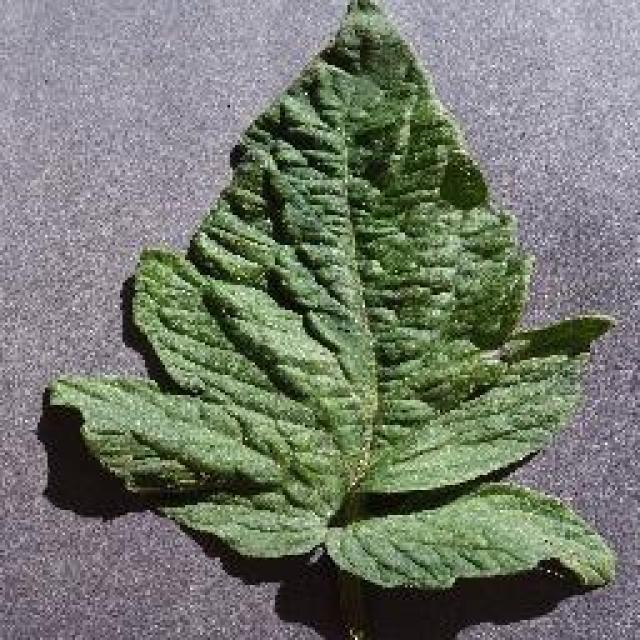Healthy: (48, 0, 632, 640)
